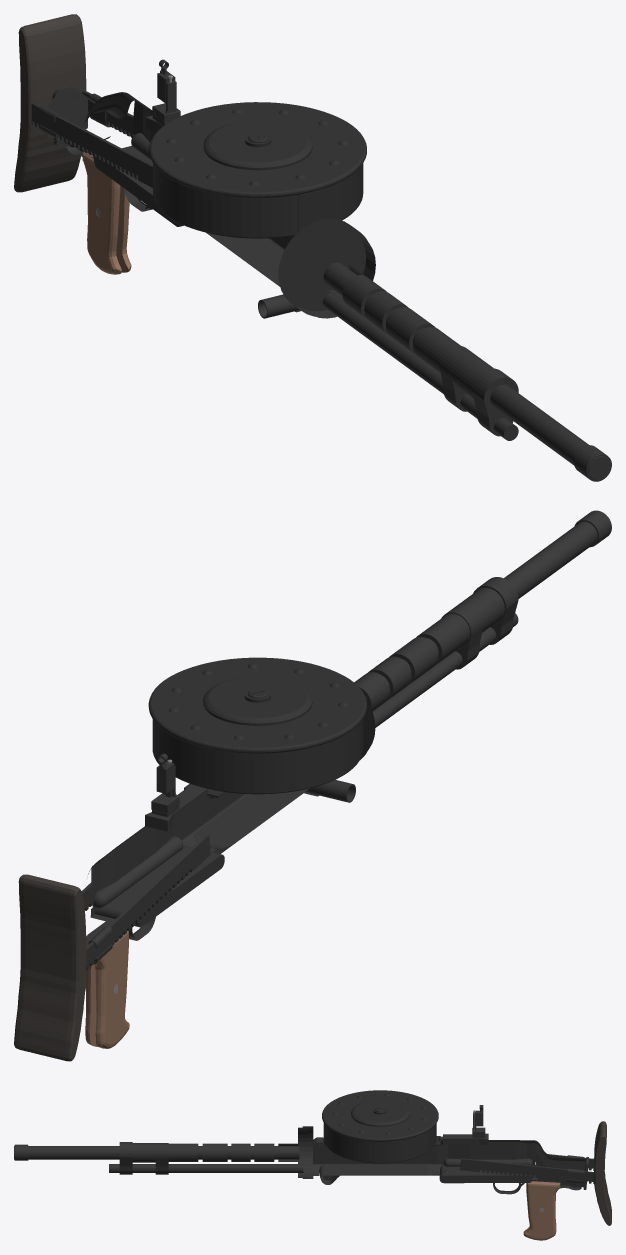
The picture shows the model from 3 angles, top to bottom: view 1: azimuth 30°, elevation 25°; view 2: azimuth 150°, elevation 25°; view 3: azimuth 270°, elevation 25°; orthographic projection. The views are drawn at different scales.
Visible parts, largest first — view 1: Cube.091; view 2: Cube.091; view 3: Cube.091.
Boxes of the visible parts, x1,y1,x2,y2 form: Cube.091: [14, 14, 611, 481]; Cube.091: [14, 510, 611, 1061]; Cube.091: [14, 1090, 611, 1240].
Size of the model in its own units: 0.177 by 0.2234 by 0.9052.
